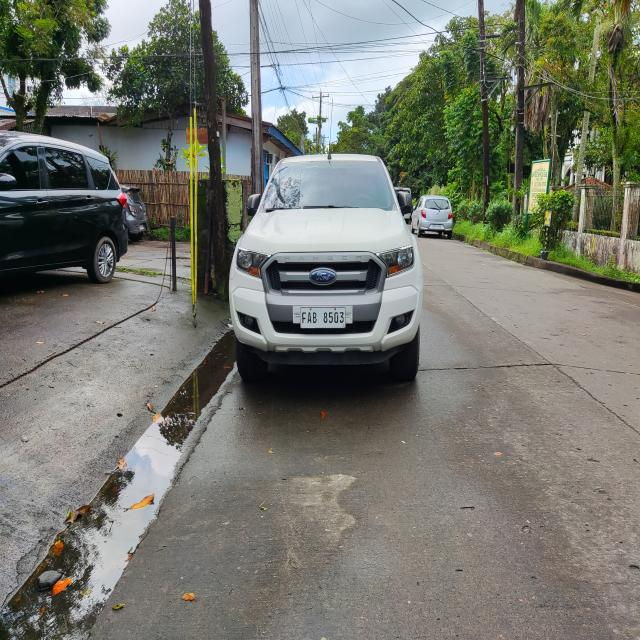plate: (300, 306, 346, 329)
